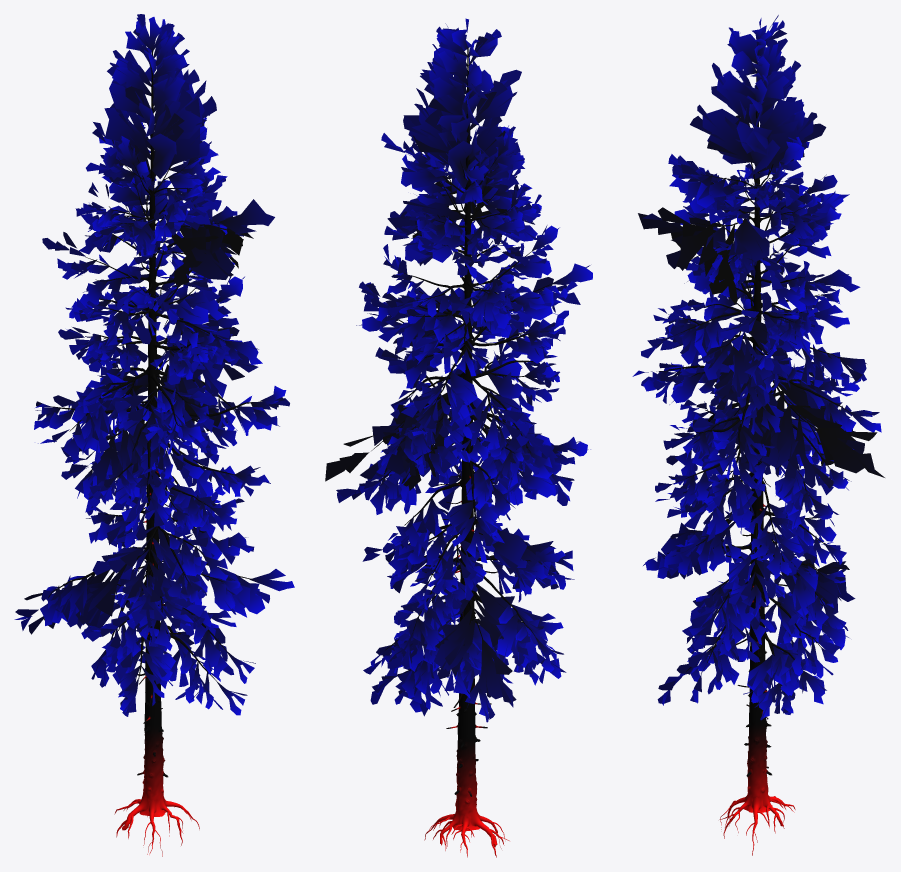
The model's file is SM_SilverFir_02.fbx.
3 renders of one model, left to right at view 1: azimuth 30°, elevation 25°; view 2: azimuth 150°, elevation 25°; view 3: azimuth 270°, elevation 25°, orthographic. The views are drawn at different scales.
Parts seen in each view (by area): view 1: SM_SilverFir_02_LOD0; view 2: SM_SilverFir_02_LOD0; view 3: SM_SilverFir_02_LOD0.
Boxes of the visible parts, x1,y1,x2,y2 form: SM_SilverFir_02_LOD0: [14, 14, 294, 856]; SM_SilverFir_02_LOD0: [325, 18, 592, 857]; SM_SilverFir_02_LOD0: [632, 15, 884, 855].
Bounding box in the file's own units: 1271 × 1262 × 4451.
